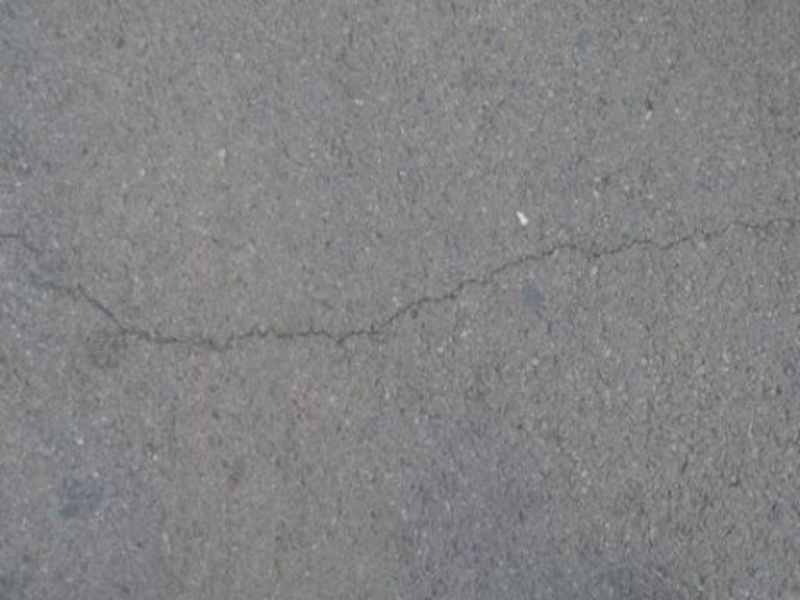crack: (7, 209, 790, 353)
